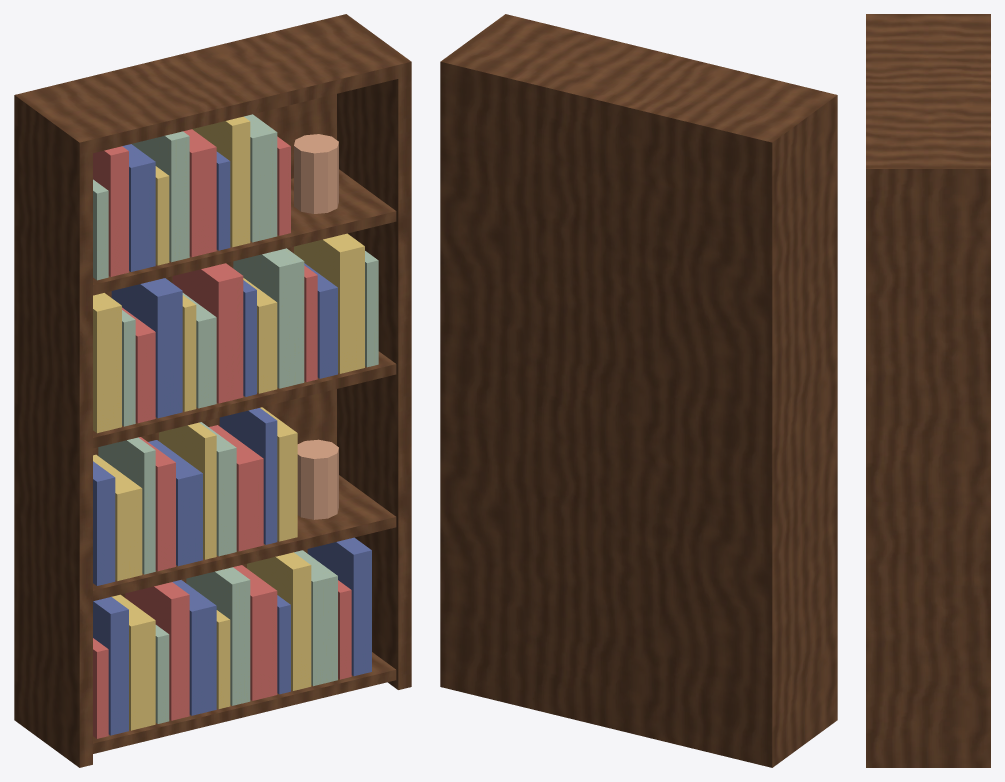
The picture shows the model from 3 angles, left to right: view 1: azimuth 30°, elevation 25°; view 2: azimuth 150°, elevation 25°; view 3: azimuth 270°, elevation 25°; orthographic projection. The views are drawn at different scales.
Parts seen in each view (by area): view 1: Decor_bookshelf; view 2: Decor_bookshelf; view 3: Decor_bookshelf.
Boxes of the visible parts, x1,y1,x2,y2 form: Decor_bookshelf: (14, 14, 411, 767); Decor_bookshelf: (440, 14, 837, 767); Decor_bookshelf: (866, 14, 990, 767).
Bounding box in the file's own units: 1 × 1.8 × 0.34.
Materials: 3 (3 with a texture image).
